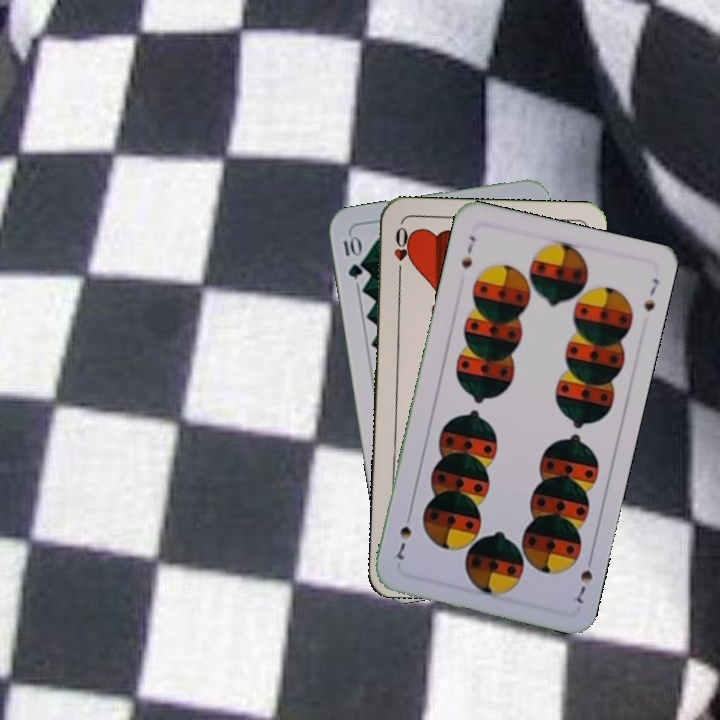G10: (339, 231, 365, 281)
HO: (390, 223, 412, 281)
S7: (572, 551, 596, 607), (457, 231, 478, 271)
